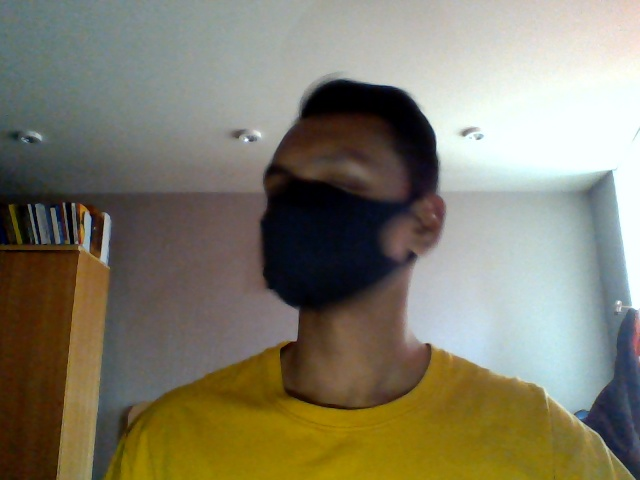mask: (258, 197, 406, 313)
